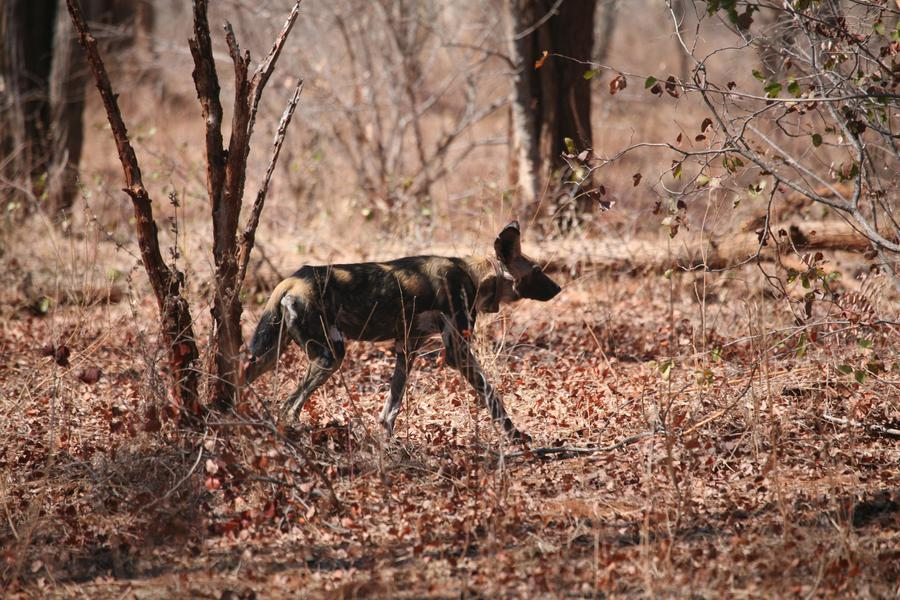wilddog: (266, 224, 548, 400)
